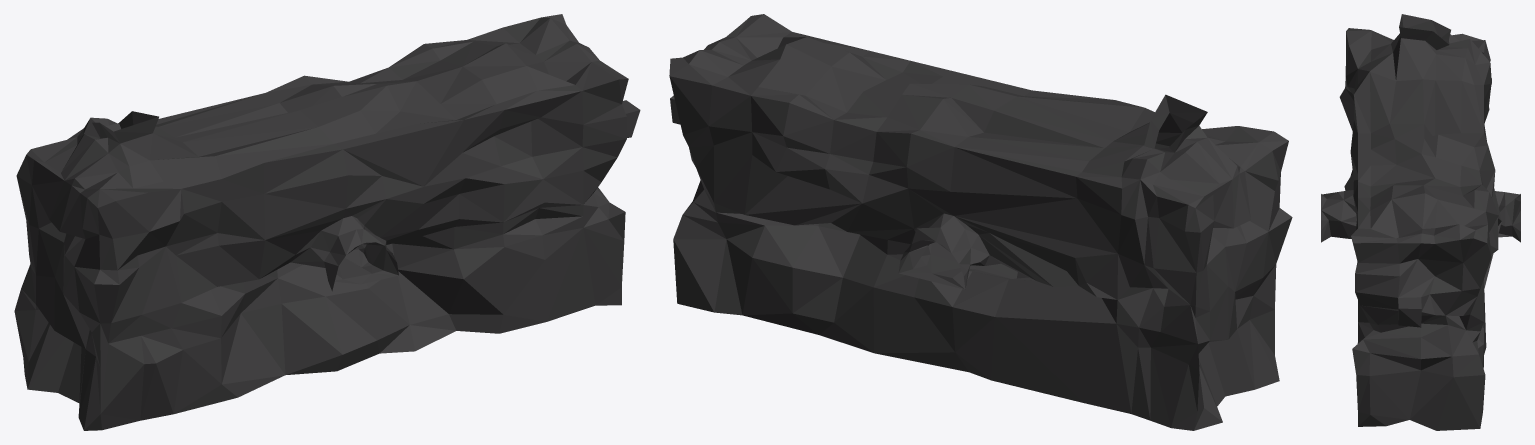
Rendered from Cave_10_LOD_2.fbx.
3 renders of one model, left to right at view 1: azimuth 30°, elevation 25°; view 2: azimuth 150°, elevation 25°; view 3: azimuth 270°, elevation 25°, orthographic. The views are drawn at different scales.
Parts seen in each view (by area): view 1: polySurface1252; view 2: polySurface1252; view 3: polySurface1252.
Boxes of the visible parts, x1=… form: polySurface1252: x1=14, y1=14, x2=640, y2=430; polySurface1252: x1=669, y1=14, x2=1292, y2=430; polySurface1252: x1=1321, y1=14, x2=1520, y2=430.
Size of the model in its own units: 71.4 by 33.7 by 26.27.
